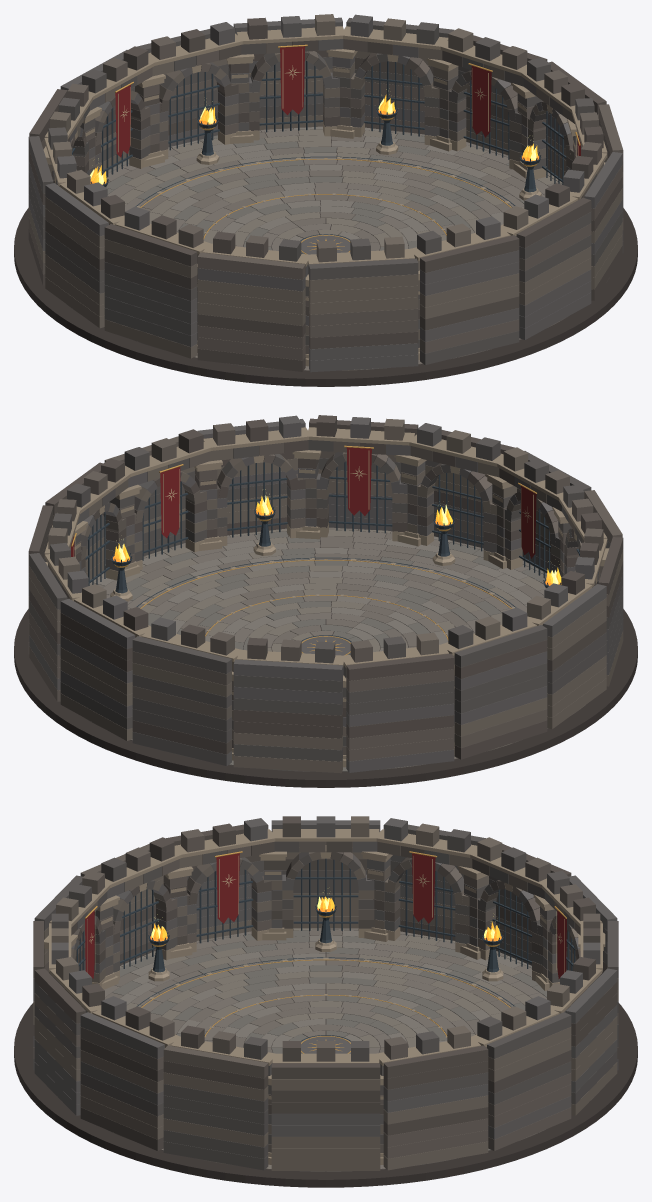
File: arena.glb
The picture shows the model from 3 angles, top to bottom: view 1: azimuth 30°, elevation 25°; view 2: azimuth 150°, elevation 25°; view 3: azimuth 270°, elevation 25°; orthographic projection.
Visible parts, largest first — view 1: Arena_mesh; view 2: Arena_mesh; view 3: Arena_mesh.
Part boxes in pixels (x1=…): Arena_mesh: x1=14, y1=14, x2=637, y2=386; Arena_mesh: x1=14, y1=415, x2=637, y2=787; Arena_mesh: x1=14, y1=816, x2=637, y2=1187.
Bounding box in the file's own units: 23.6 × 5.17 × 23.6.
